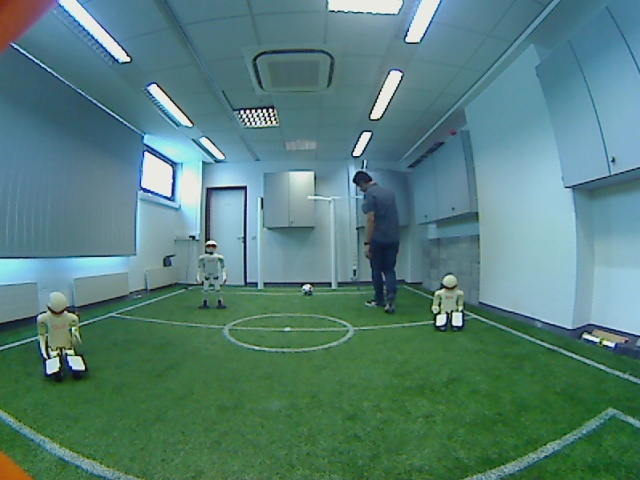ball: (295, 280, 317, 300)
robot: (33, 291, 88, 383), (425, 272, 473, 338), (194, 238, 231, 311)
